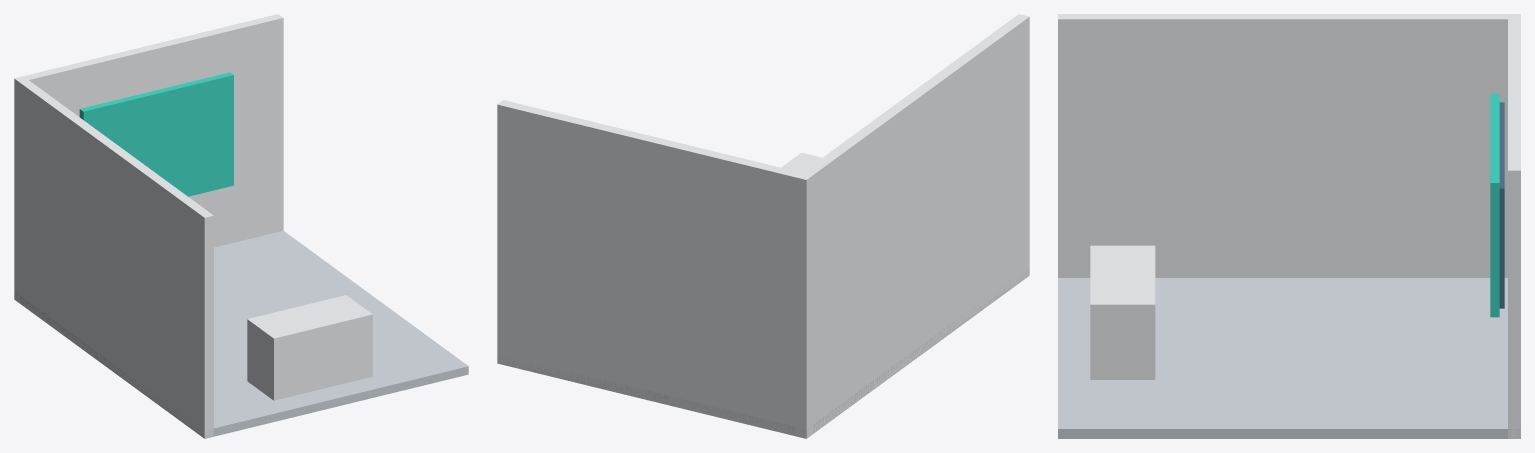
The picture shows the model from 3 angles, left to right: view 1: azimuth 30°, elevation 25°; view 2: azimuth 150°, elevation 25°; view 3: azimuth 270°, elevation 25°; orthographic projection. The views are drawn at different scales.
Visible parts, largest first — view 1: Exhibition Booth Concept; view 2: Exhibition Booth Concept; view 3: Exhibition Booth Concept.
Part boxes in pixels (x1,y1,x2,y2): Exhibition Booth Concept: [14, 14, 468, 438]; Exhibition Booth Concept: [497, 14, 1029, 438]; Exhibition Booth Concept: [1058, 14, 1520, 438].
Size of the model in its own units: 4 by 3.2 by 5.
